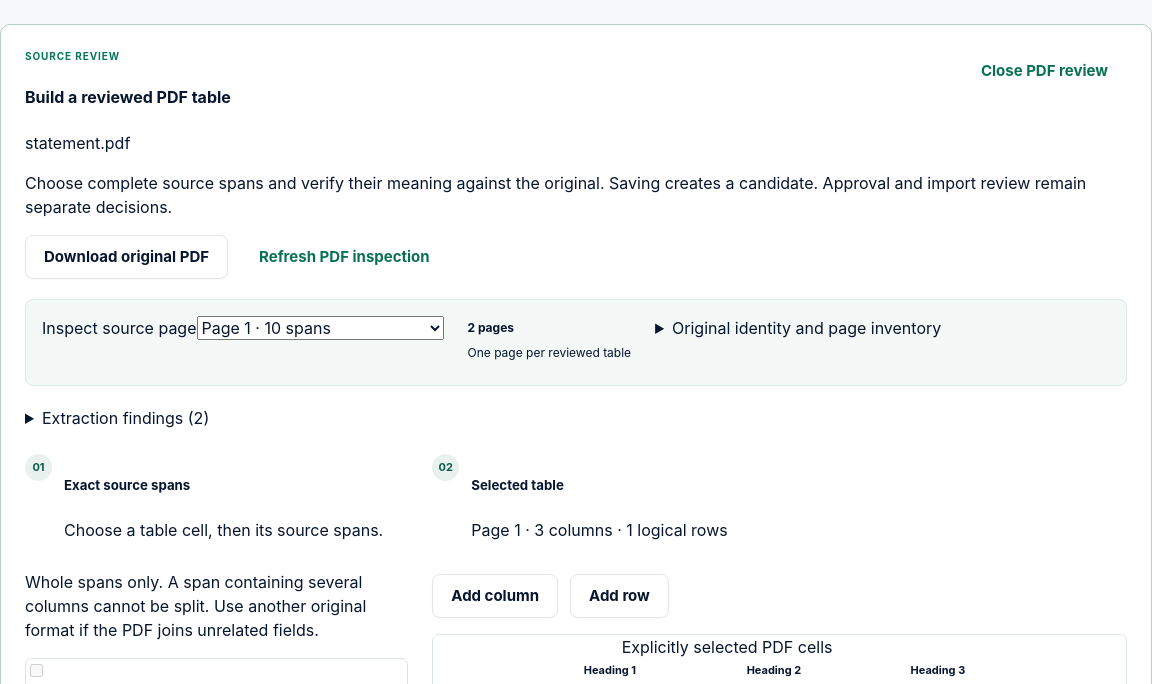
Scenario: reviewed PDF source selections › rejects mismatched inspection scope, incomplete span text, and a changed source on refresh
Click the button "Refresh PDF inspection": coordinates (344, 256) [240,234,449,278]
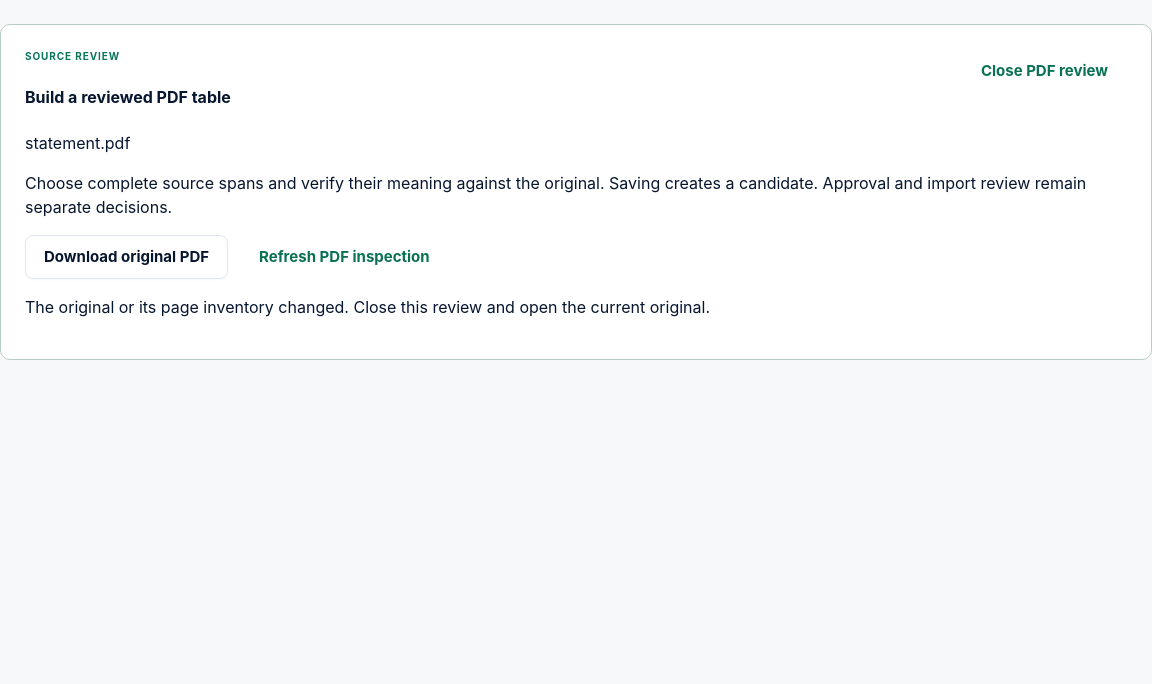
Check: the message shows "original or its page inventory changed", box [25,296,710,316]
